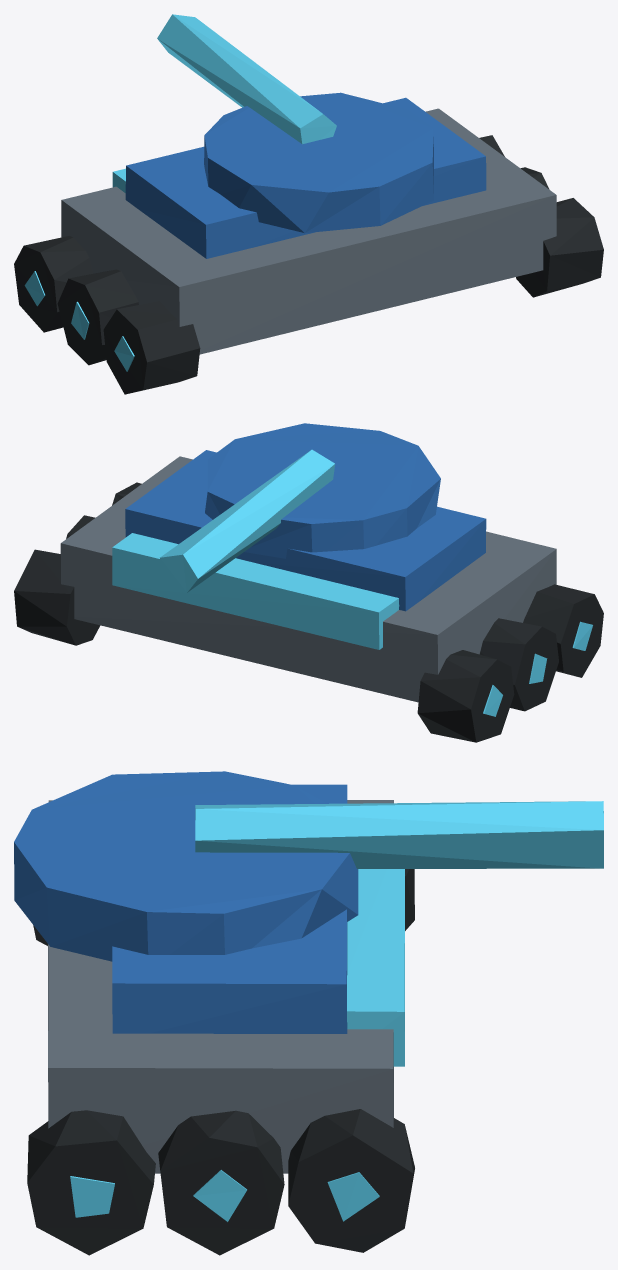
File: SM_Alliance_AL_OracleArtillery_LOD3.fbx
3 renders of one model, top to bottom at view 1: azimuth 30°, elevation 25°; view 2: azimuth 150°, elevation 25°; view 3: azimuth 270°, elevation 25°, orthographic. The views are drawn at different scales.
Parts seen in each view (by area): view 1: LOD03_SM_Alliance_AL_OracleArtillery; view 2: LOD03_SM_Alliance_AL_OracleArtillery; view 3: LOD03_SM_Alliance_AL_OracleArtillery.
Boxes of the visible parts, x1=… form: LOD03_SM_Alliance_AL_OracleArtillery: x1=14, y1=14, x2=603, y2=394; LOD03_SM_Alliance_AL_OracleArtillery: x1=14, y1=423, x2=603, y2=742; LOD03_SM_Alliance_AL_OracleArtillery: x1=14, y1=771, x2=603, y2=1255.
Size of the model in its own units: 551 by 420 by 226.
